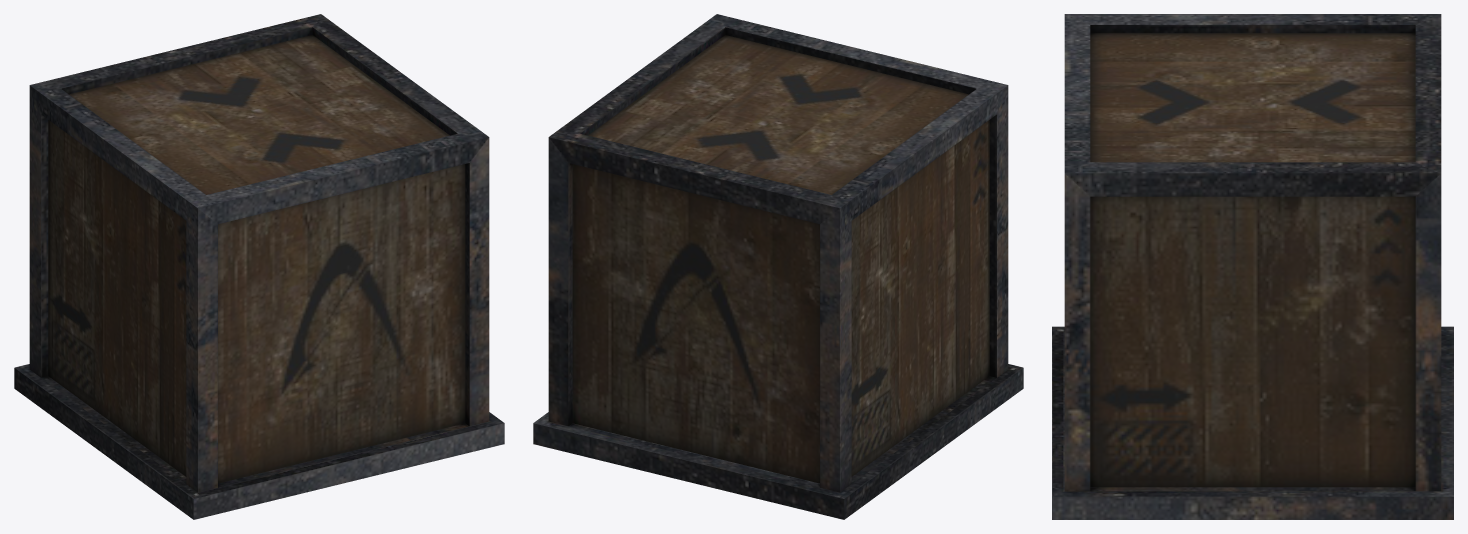
The model's file is AuraCrate_02.FBX.
3 renders of one model, left to right at view 1: azimuth 30°, elevation 25°; view 2: azimuth 150°, elevation 25°; view 3: azimuth 270°, elevation 25°, orthographic. The views are drawn at different scales.
Visible parts, largest first — view 1: AuraCrate_02; view 2: AuraCrate_02; view 3: AuraCrate_02.
Part boxes in pixels (x1,y1,x2,y2): AuraCrate_02: (14, 14, 504, 519); AuraCrate_02: (533, 14, 1023, 519); AuraCrate_02: (1052, 14, 1453, 519).
Size of the model in its own units: 95.24 by 89.29 by 95.24.
